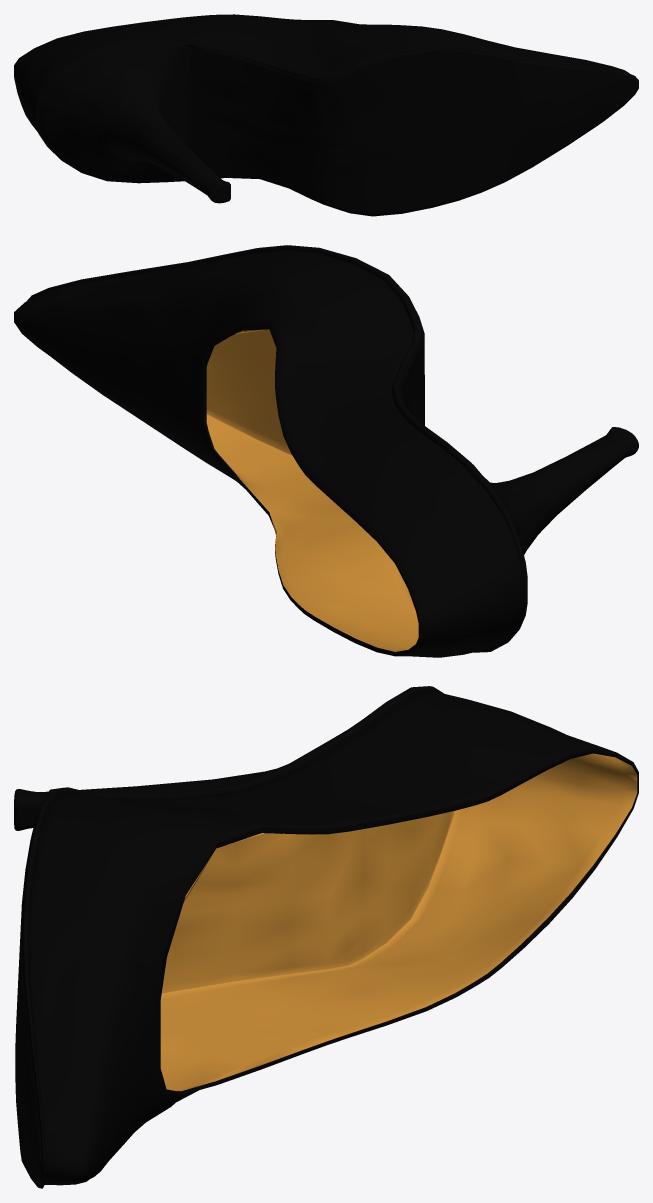
Rendered from women_shoes.obj.
3 renders of one model, top to bottom at view 1: azimuth 30°, elevation 25°; view 2: azimuth 150°, elevation 25°; view 3: azimuth 270°, elevation 25°, orthographic. The views are drawn at different scales.
Visible parts, largest first — view 1: women_shoes.002; view 2: women_shoes.002; view 3: women_shoes.002.
Part boxes in pixels (bbox=[...]): women_shoes.002: bbox=[14, 14, 638, 216]; women_shoes.002: bbox=[14, 245, 638, 657]; women_shoes.002: bbox=[14, 686, 638, 1188].
Size of the model in its own units: 305 by 99.81 by 195.
